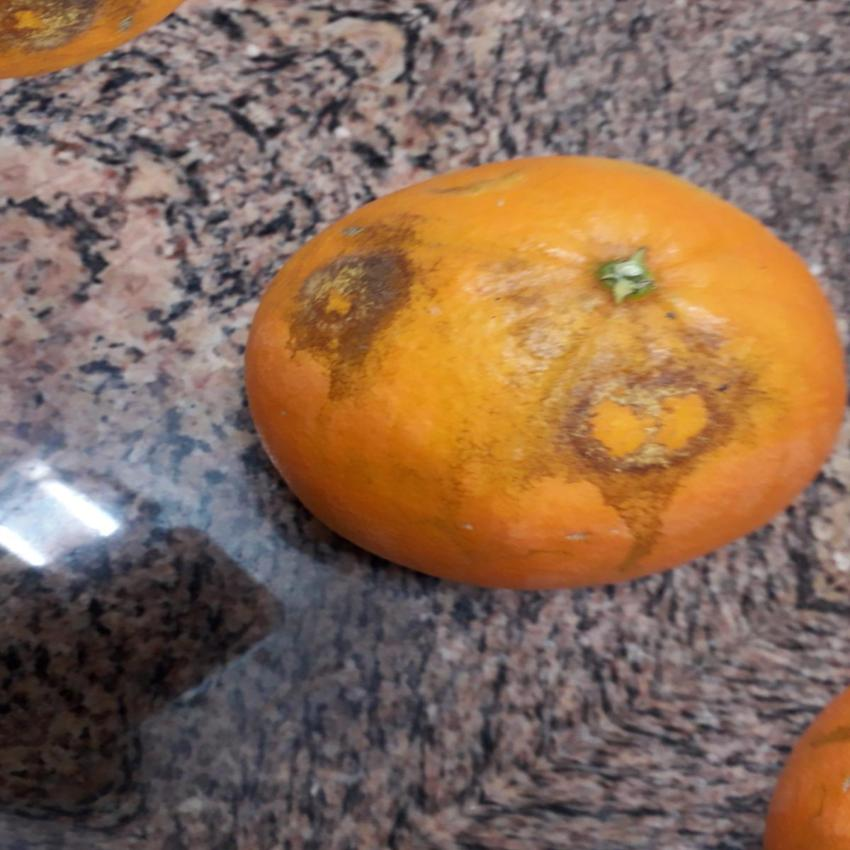Mal estado: (214, 118, 850, 606)
